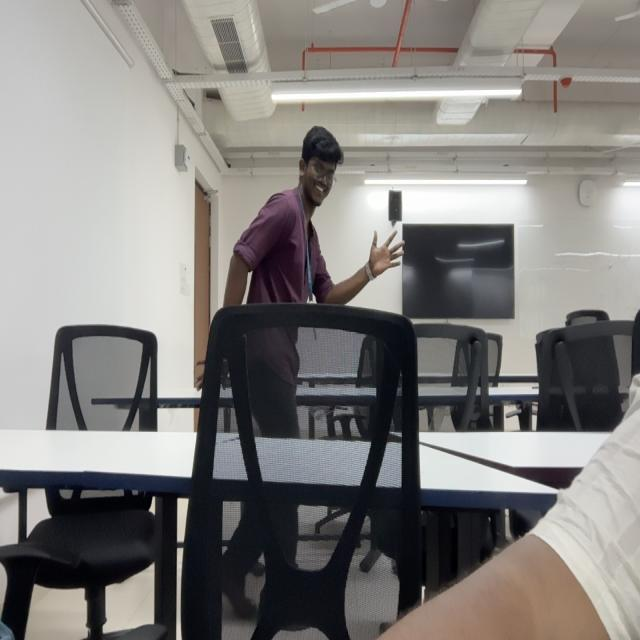ravindra: (298, 123, 344, 208)
